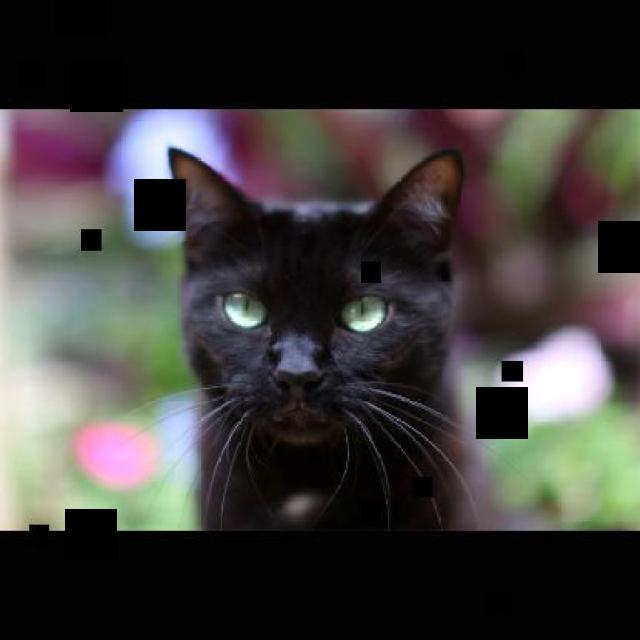unauthorized: (132, 143, 482, 531)
